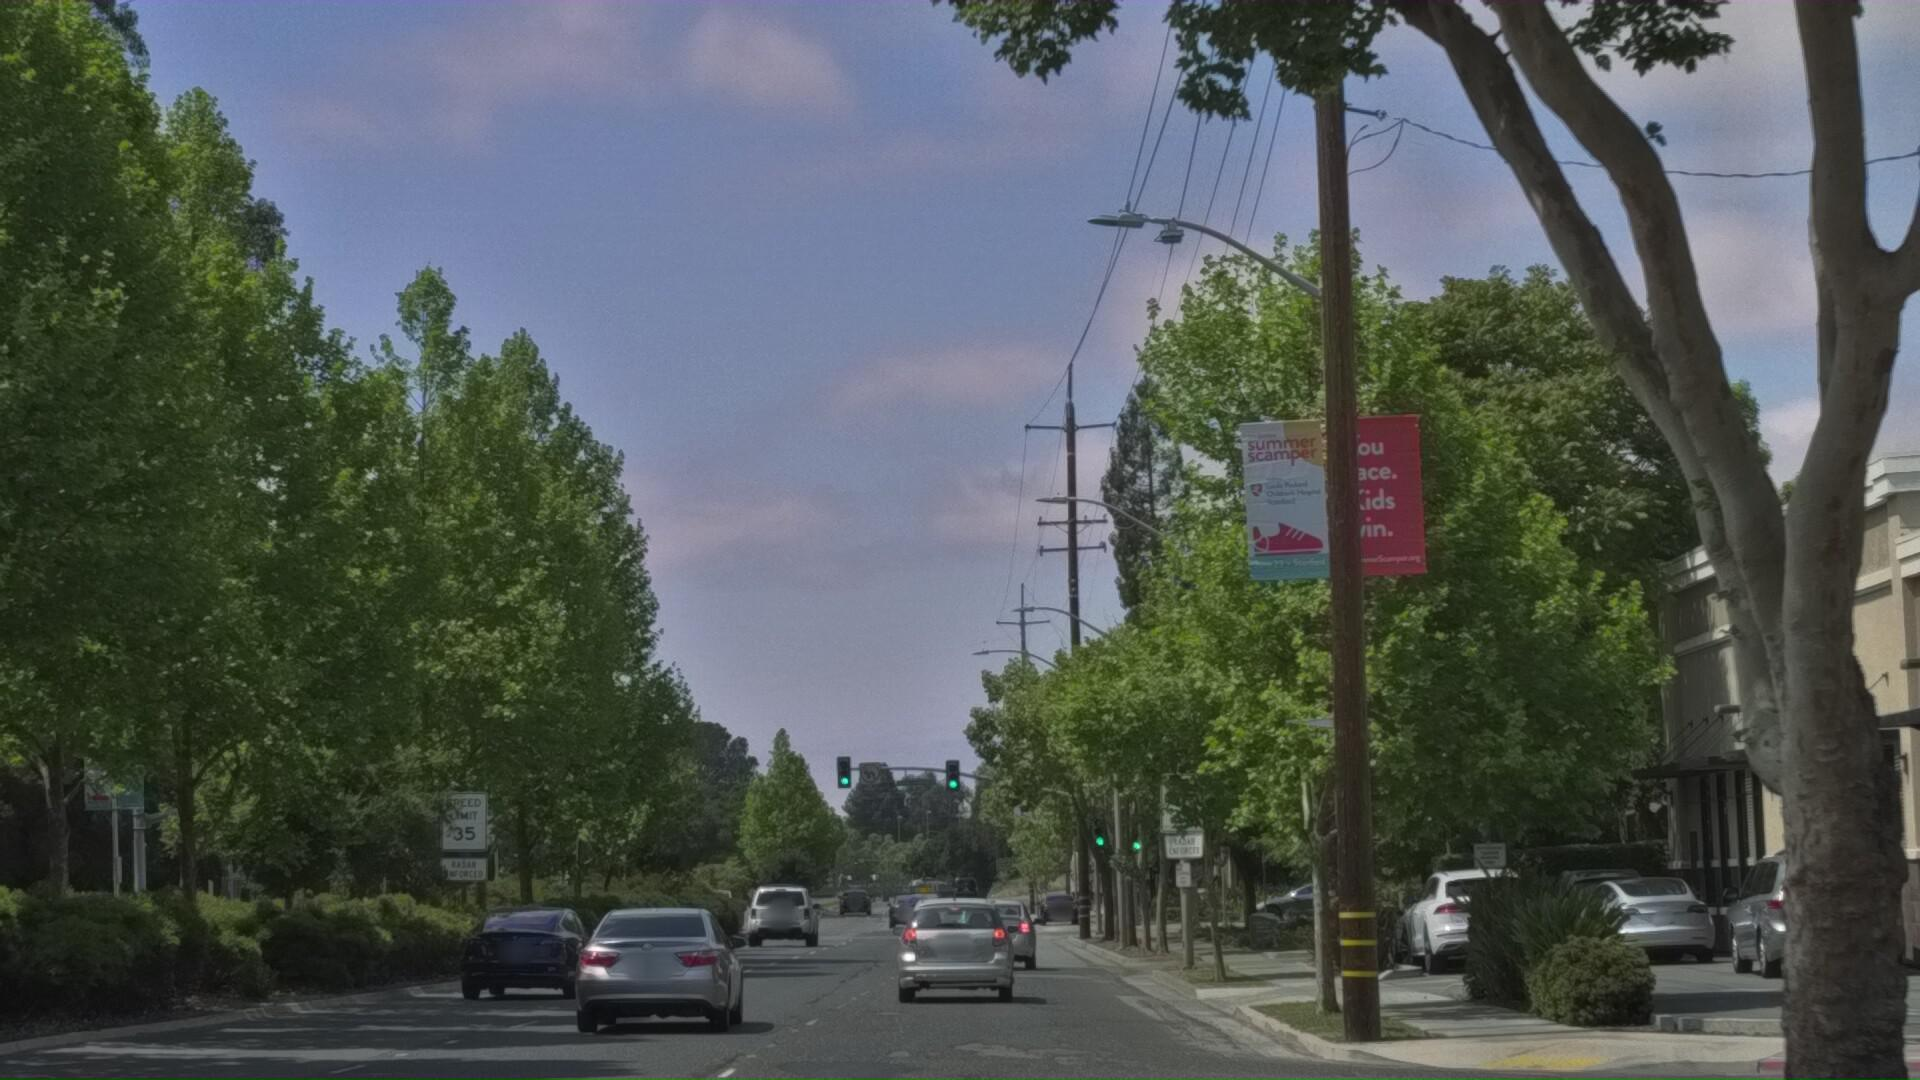car: (1724, 944, 1917, 1079), (1394, 957, 1560, 1072), (1567, 965, 1729, 1067), (562, 1006, 760, 1080), (451, 1000, 607, 1080), (891, 992, 1033, 1080), (957, 1004, 1044, 1080), (0, 985, 17, 1080)
